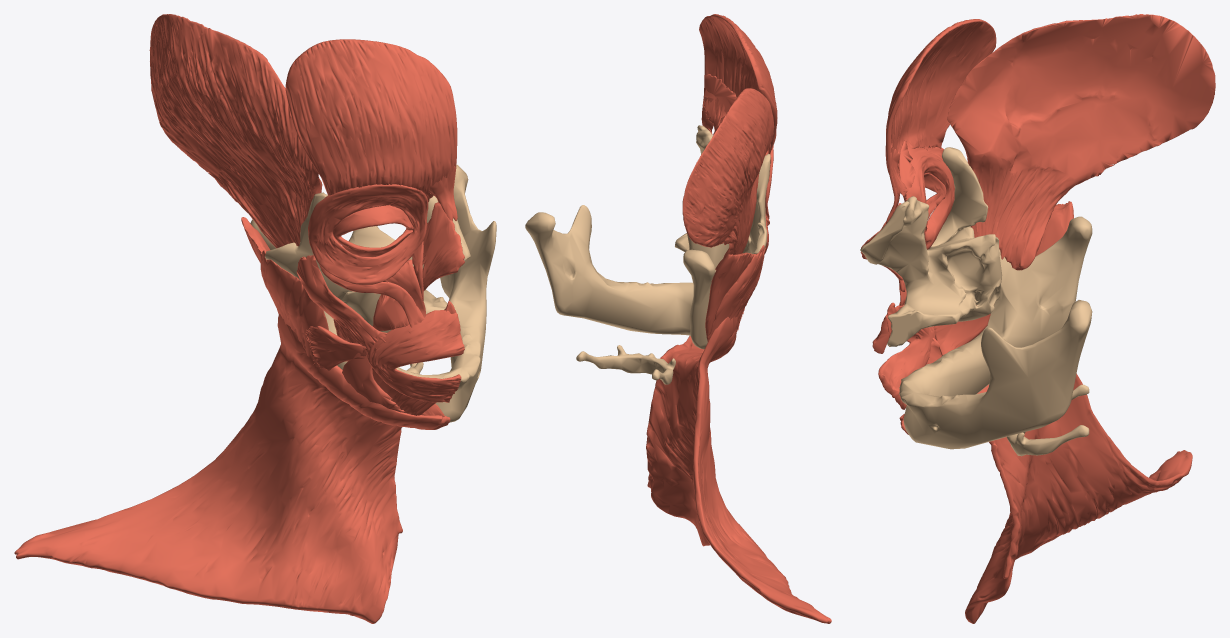
File: atlas_head_face.glb
3 views of the same model, side by side, from view 1: azimuth 30°, elevation 25°; view 2: azimuth 150°, elevation 25°; view 3: azimuth 270°, elevation 25° (orthographic). The views are drawn at different scales.
Parts seen in each view (by area): view 1: muscle_platysma, muscle_temporalis, muscle_frontalis, muscle_orbicularis_oculi, bone_mandible, muscle_orbicularis_oris, muscle_masseter, muscle_zygomaticus_major, muscle_nasalis, bone_maxilla, bone_zygomatic, muscle_risorius (+6 smaller); view 2: muscle_platysma, bone_mandible, muscle_temporalis, muscle_frontalis, muscle_masseter, bone_hyoid, bone_zygomatic, bone_maxilla, muscle_procerus; view 3: muscle_temporalis, bone_mandible, muscle_platysma, bone_maxilla, muscle_frontalis, muscle_orbicularis_oculi, bone_zygomatic, muscle_orbicularis_oris, bone_hyoid, muscle_bucinator, bone_nasal, muscle_masseter (+1 smaller).
Boxes of the visible parts, left/top/right/bottom form: muscle_platysma: left=14, top=314, right=450, bottom=623; muscle_temporalis: left=149, top=14, right=322, bottom=248; muscle_frontalis: left=285, top=39, right=457, bottom=198; muscle_orbicularis_oculi: left=308, top=184, right=428, bottom=284; bone_mandible: left=250, top=164, right=496, bottom=422; muscle_orbicularis_oris: left=367, top=310, right=464, bottom=402; muscle_masseter: left=241, top=217, right=328, bottom=357; muscle_zygomaticus_major: left=296, top=255, right=387, bottom=353; muscle_nasalis: left=422, top=202, right=464, bottom=290; bone_maxilla: left=341, top=195, right=456, bottom=332; bone_zygomatic: left=265, top=192, right=352, bottom=299; muscle_risorius: left=305, top=326, right=368, bottom=370; muscle_platysma: left=646, top=316, right=831, bottom=623; bone_mandible: left=525, top=205, right=715, bottom=349; muscle_temporalis: left=682, top=88, right=774, bottom=270; muscle_frontalis: left=699, top=14, right=777, bottom=151; muscle_masseter: left=705, top=245, right=765, bottom=341; bone_hyoid: left=576, top=345, right=675, bottom=384; bone_zygomatic: left=748, top=153, right=770, bottom=254; bone_maxilla: left=675, top=129, right=751, bottom=268; muscle_procerus: left=701, top=74, right=736, bottom=132; muscle_temporalis: left=947, top=14, right=1215, bottom=270; bone_mandible: left=899, top=216, right=1092, bottom=449; muscle_platysma: left=899, top=373, right=1192, bottom=623; bone_maxilla: left=878, top=196, right=1002, bottom=346; muscle_frontalis: left=885, top=19, right=996, bottom=196; muscle_orbicularis_oculi: left=903, top=145, right=954, bottom=249; bone_zygomatic: left=929, top=147, right=988, bottom=248; muscle_orbicularis_oris: left=872, top=305, right=935, bottom=409; bone_hyoid: left=1007, top=384, right=1089, bottom=456; muscle_bucinator: left=934, top=305, right=990, bottom=355; bone_nasal: left=860, top=201, right=909, bottom=264; muscle_masseter: left=1035, top=201, right=1073, bottom=256.
Bounding box in the file's own units: 0.1928 × 0.2751 × 0.1508.
